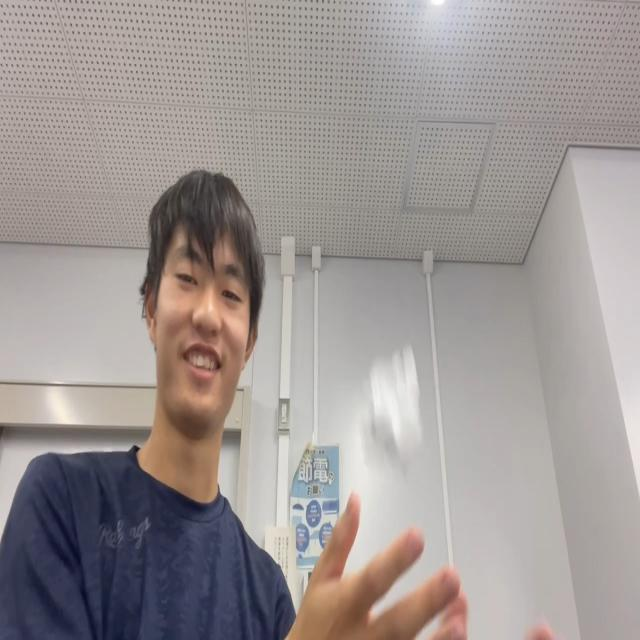paper: (361, 342, 423, 474)
